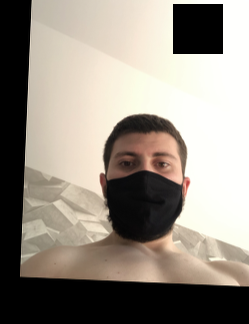with_mask: (103, 145, 185, 243)
